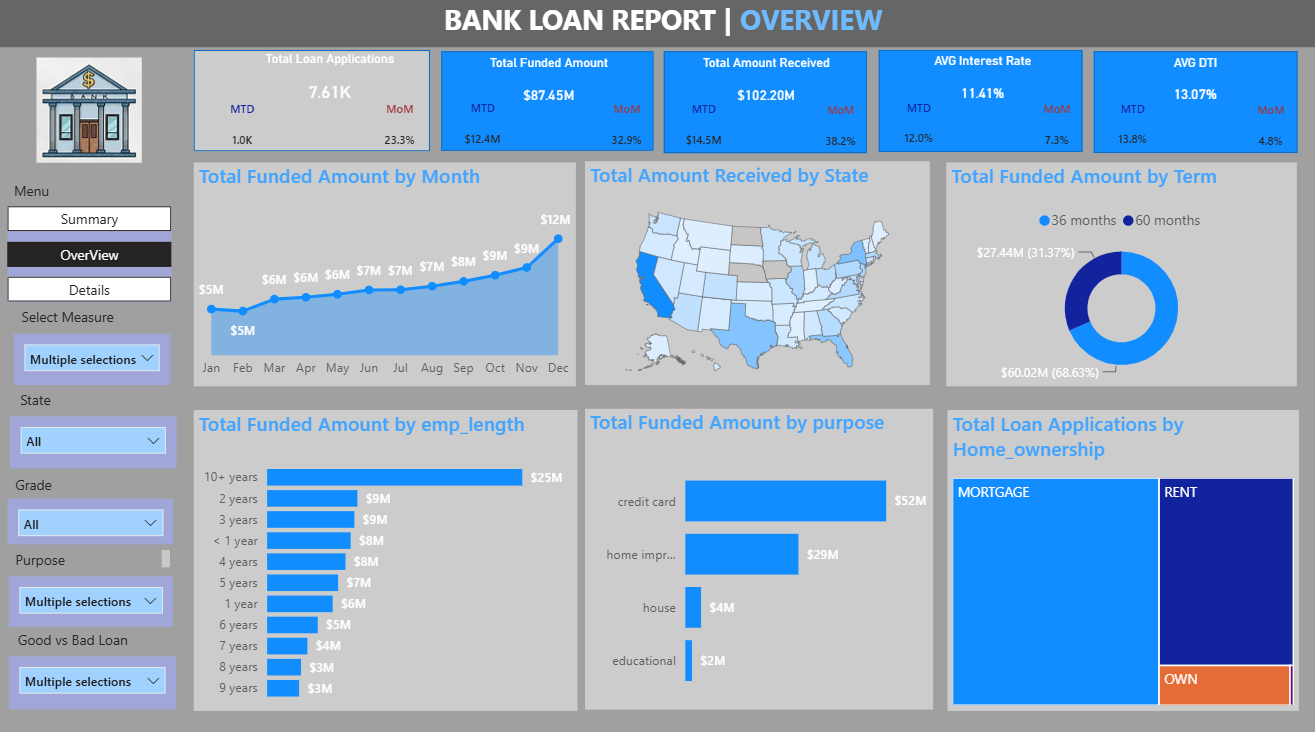

What the dashboard file says about the page in this screenshot:
{"tool":"powerbi","page":{"name":"OverView","canvas":[1280,720],"ordinal":1},"visuals":[{"type":"shape","box":[0,0,1280,50.8],"z":0},{"type":"shape","box":[701.6,53.6,162,98],"z":0,"group":"g4"},{"type":"shape","box":[873.8,53.8,162,98],"z":0,"group":"g5"},{"type":"shape","box":[357,54,162,98],"z":0,"group":"g2"},{"type":"shape","box":[530,54.3,162,98],"z":0,"group":"g3"},{"type":"shape","box":[183,55,162,98],"z":0,"group":"g1"},{"type":"textbox","box":[386.1,0,517.6,49.5],"z":1000},{"type":"card","title":"Total Loan Applications","fields":{"Values":["Bank_Loan_dataset.Total Loan Applications"]},"box":[208,55.9,137,48.1],"z":1000,"group":"g1"},{"type":"card","title":"AVG Interest Rate","fields":{"Values":["Bank_Loan_dataset.AVG Interest Rate"]},"box":[716,57.6,135.6,50],"z":1000,"group":"g4"},{"type":"card","title":"AVG DTI","fields":{"Values":["Bank_Loan_dataset.AVG DTI"]},"box":[888.2,57.8,135.6,50],"z":1000,"group":"g5"},{"type":"card","title":"Total Funded Amount","fields":{"Values":["Bank_Loan_dataset.Total Funded Amount"]},"box":[371.4,58,135.6,50],"z":1000,"group":"g2"},{"type":"card","title":"Total  Amount Received","fields":{"Values":["Bank_Loan_dataset.Total Amount REceived"]},"box":[544.4,58.3,135.6,50],"z":1000,"group":"g3"},{"type":"group","id":"g1","title":"Group 1","box":[183,55,162,98],"z":2000},{"type":"card","title":"MTD","fields":{"Values":["Bank_Loan_dataset.MTD AVG Interest Rate"]},"box":[708.3,102,50,50],"z":2000,"group":"g4"},{"type":"card","title":"MTD","fields":{"Values":["Bank_Loan_dataset.MTD AVG DTI"]},"box":[880.5,102.2,50,50],"z":2000,"group":"g5"},{"type":"card","title":"MTD","fields":{"Values":["Bank_Loan_dataset.MTD Funded Amount Applications"]},"box":[363.7,102.4,50,50],"z":2000,"group":"g2"},{"type":"card","title":"MTD","fields":{"Values":["Bank_Loan_dataset.MTD Total Amount Received"]},"box":[536.7,102.7,50,50],"z":2000,"group":"g3"},{"type":"card","title":"MTD","fields":{"Values":["Bank_Loan_dataset.MTD Loan Applications"]},"box":[196,104,41,49],"z":2000,"group":"g1"},{"type":"group","id":"g2","title":"Group 1","box":[357,54,162,98.4],"z":3000},{"type":"card","title":"MoM","fields":{"Values":["Bank_Loan_dataset.MOm AVG Interest Rate"]},"box":[822.6,102.6,41,49],"z":3000,"group":"g4"},{"type":"card","title":"MoM","fields":{"Values":["Bank_Loan_dataset.MoM AVG DTI"]},"box":[994.8,102.8,41,49],"z":3000,"group":"g5"},{"type":"card","title":"MoM","fields":{"Values":["Bank_Loan_dataset.MoM Total Funded Amount"]},"box":[478,103,41,49],"z":3000,"group":"g2"},{"type":"card","title":"MoM","fields":{"Values":["Bank_Loan_dataset.MoM Total Amount Recieved"]},"box":[651,103.3,41,49],"z":3000,"group":"g3"},{"type":"card","title":"MoM","fields":{"Values":["Bank_Loan_dataset.MoM Loan Applications"]},"box":[304,104,41,49],"z":3000,"group":"g1"},{"type":"group","id":"g3","title":"Group 1","box":[530,54.3,161.4,98.6],"z":4000},{"type":"group","id":"g4","title":"Group 1","box":[701.6,53.6,162,98.4],"z":5000},{"type":"group","id":"g5","title":"Group 1","box":[873.8,53.8,162.5,98.8],"z":6000},{"type":"slicer","fields":{"Values":["Bank_Loan_dataset.address_state"]},"box":[15,396.2,162.9,62.7],"z":7000},{"type":"textbox","box":[13.8,366.2,155.6,30.2],"z":8000},{"type":"slicer","fields":{"Values":["Bank_Loan_dataset.grade"]},"box":[12.5,486.2,160,44.3],"z":9000},{"type":"slicer","fields":{"Values":["Bank_Loan_dataset.purpose","Bank_Loan_dataset.grade"]},"box":[13.8,561.2,158.6,48.6],"z":10000},{"type":"textbox","box":[15,458.8,84.5,27.7],"z":11000},{"type":"textbox","box":[15,531.2,159.3,26.5],"z":12000},{"type":"slicer","fields":{"Values":["Select Measure.Select Measure"]},"box":[17.5,310,155,56.7],"z":13000},{"type":"textbox","box":[15,268.8,155.6,30.2],"z":14000},{"type":"areaChart","fields":{"Y":["Bank_Loan_dataset.Total Funded Amount"],"Category":["Date Table.Month"]},"box":[182.9,161.4,378.6,215.7],"z":15000},{"type":"shapeMap","title":"Total Amount Received by State","fields":{"Value":["Bank_Loan_dataset.Total Funded Amount"],"Category":["Bank_Loan_dataset.address_state"]},"box":[570,160,332.9,215.7],"z":16000},{"type":"donutChart","title":"Total Funded Amount by Term","fields":{"Y":["Bank_Loan_dataset.Total Funded Amount"],"Category":["Bank_Loan_dataset.term"]},"box":[918.6,161.4,338.6,215.7],"z":17000},{"type":"barChart","fields":{"Y":["Bank_Loan_dataset.Total Funded Amount"],"Category":["Bank_Loan_dataset.emp_length"]},"box":[191.4,400,370,290],"z":18000},{"type":"barChart","fields":{"Y":["Bank_Loan_dataset.Total Funded Amount"],"Category":["Bank_Loan_dataset.purpose"]},"box":[569.4,399.3,335.7,290],"z":19000},{"type":"treemap","title":"Total Loan Applications by Home_ownership","fields":{"Values":["Bank_Loan_dataset.Total Funded Amount"],"Group":["Bank_Loan_dataset.home_ownership"]},"box":[919,400,339,290],"z":20000},{"type":"slicer","fields":{"Values":["Bank_Loan_dataset.Good vs Bad Loan"]},"box":[12.9,638.6,161.4,51.4],"z":21000},{"type":"textbox","box":[17.1,608.6,155.7,30],"z":22000},{"type":"pageNavigator","box":[12.5,176.2,157.5,92.5],"z":23000},{"type":"image","box":[12.5,60,157.5,101.2],"z":24000}]}

Visuals, with their boxes in screenshot pixels (x1, y1, x2, y2), scaled from the page's 1280x720 canvas onto the 1315x732 screenshot:
shape: 0:0:1314:52
shape: 721:54:887:154
shape: 898:55:1064:154
shape: 367:55:533:155
shape: 544:55:711:155
shape: 188:56:354:156
textbox: 397:0:928:50
"Total Loan Applications" card: 214:57:354:106
"AVG Interest Rate" card: 736:59:875:109
"AVG DTI" card: 912:59:1052:110
"Total Funded Amount" card: 382:59:521:110
"Total  Amount Received" card: 559:59:699:110
"Group 1" group: 188:56:354:156
"MTD" card: 728:104:779:155
"MTD" card: 905:104:956:155
"MTD" card: 374:104:425:155
"MTD" card: 551:104:603:155
"MTD" card: 201:106:243:156
"Group 1" group: 367:55:533:155
"MoM" card: 845:104:887:154
"MoM" card: 1022:105:1064:154
"MoM" card: 491:105:533:155
"MoM" card: 669:105:711:155
"MoM" card: 312:106:354:156
"Group 1" group: 544:55:710:155
"Group 1" group: 721:54:887:155
"Group 1" group: 898:55:1065:155
slicer - Bank_Loan_dataset.address_state: 15:403:183:467
textbox: 14:372:174:403
slicer - Bank_Loan_dataset.grade: 13:494:177:539
slicer - Bank_Loan_dataset.purpose x Bank_Loan_dataset.grade: 14:571:177:620
textbox: 15:466:102:495
textbox: 15:540:179:567
slicer - Select Measure.Select Measure: 18:315:177:373
textbox: 15:273:175:304
areaChart - Bank_Loan_dataset.Total Funded Amount x Date Table.Month: 188:164:577:383
"Total Amount Received by State" shapeMap: 586:163:928:382
"Total Funded Amount by Term" donutChart: 944:164:1292:383
barChart - Bank_Loan_dataset.Total Funded Amount x Bank_Loan_dataset.emp_length: 197:407:577:702
barChart - Bank_Loan_dataset.Total Funded Amount x Bank_Loan_dataset.purpose: 585:406:930:701
"Total Loan Applications by Home_ownership" treemap: 944:407:1292:702
slicer - Bank_Loan_dataset.Good vs Bad Loan: 13:649:179:702
textbox: 18:619:178:649
pageNavigator: 13:179:175:273
image: 13:61:175:164
